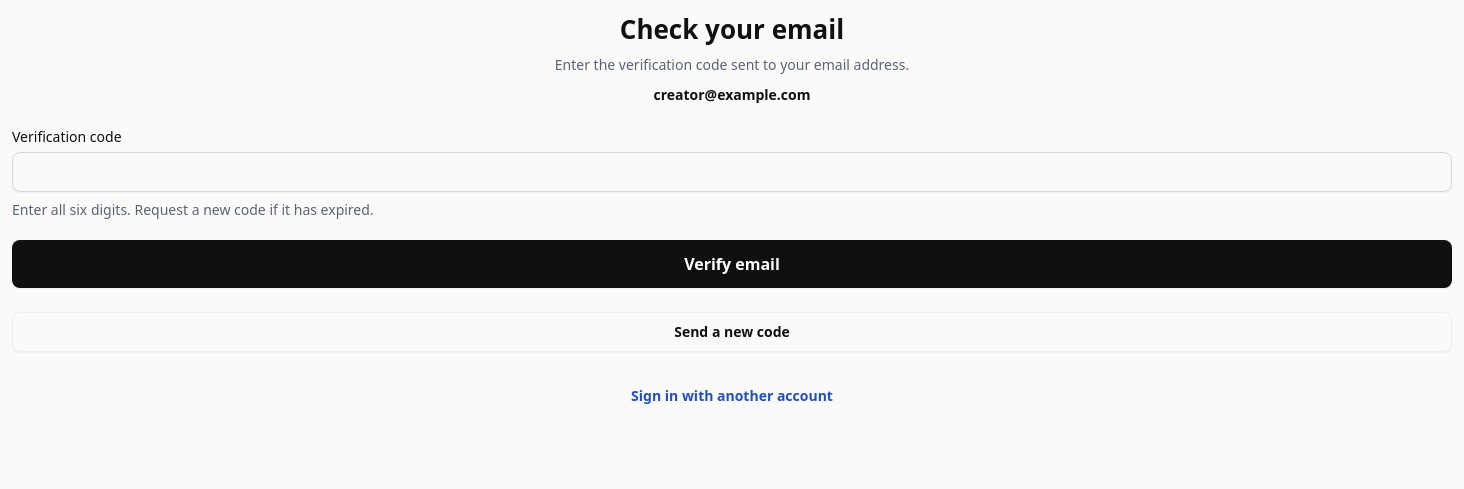
React Query auth forms › after too many attempts › stops code entry but still allows a new code
Type "012345" into the field labelled "Verification code" at x=732, y=172, box [12,152,1452,192]
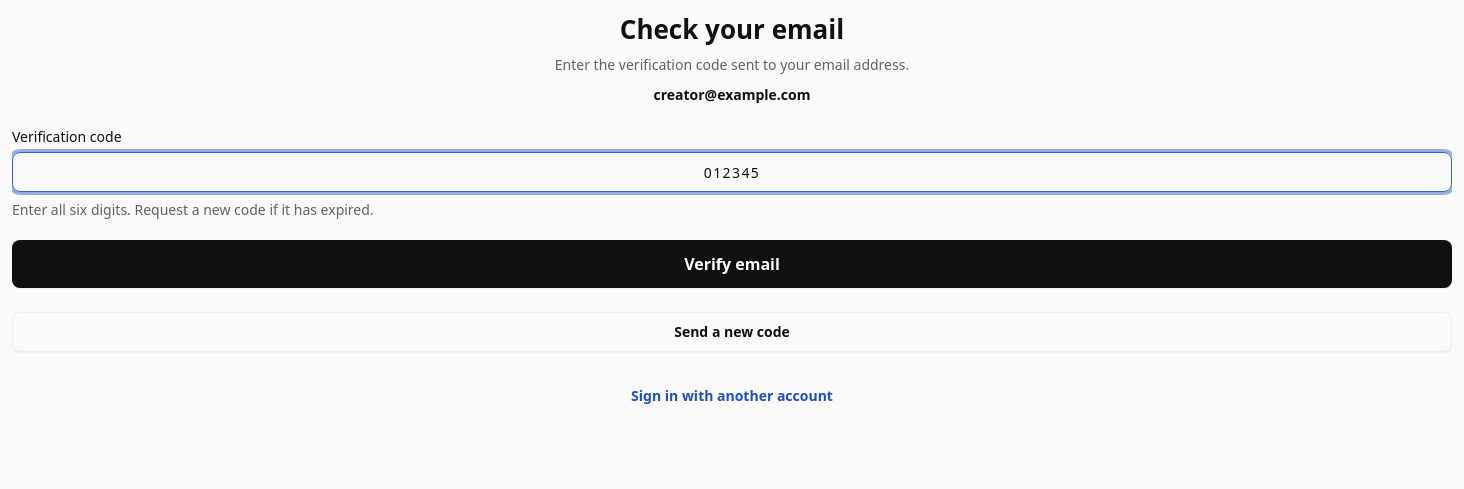
Click the button "Verify email" at x=732, y=264, box [12,240,1452,288]
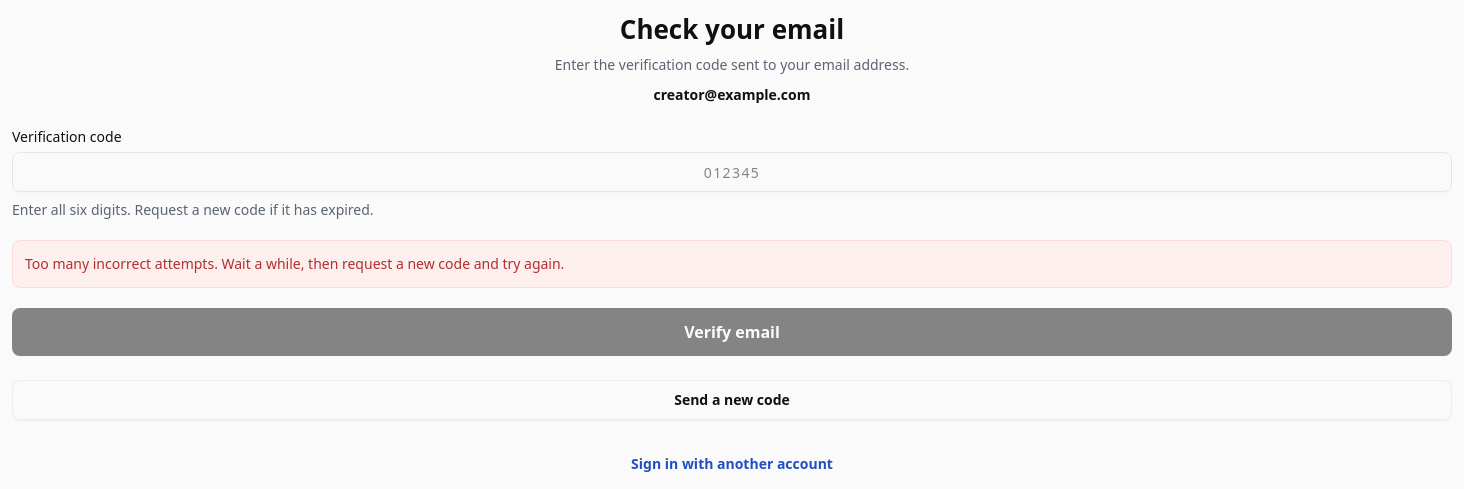
Expected: the field labelled "Verification code" is disabled, [12,152,1452,192]
Expected: the message shows "Too many incorrect attempts. Wait a while, then request a new code and try again.", [25,254,564,273]
Expected: the button "Verify email" is disabled, [12,308,1452,356]
